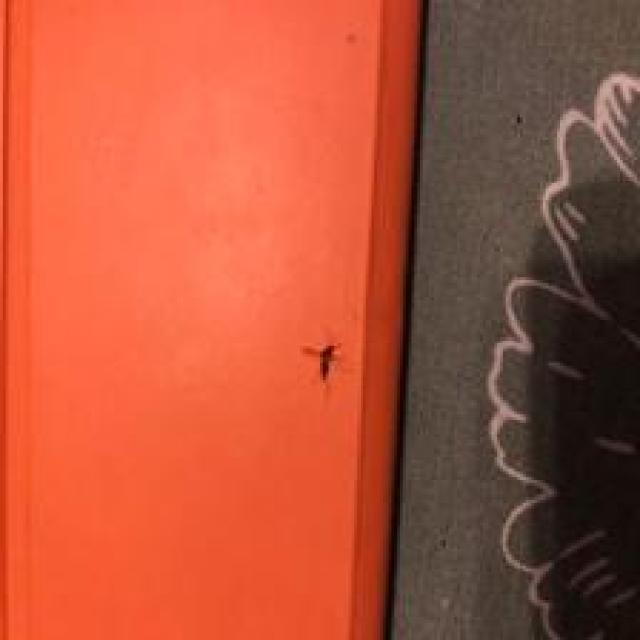Culex: (483, 68, 640, 640)
